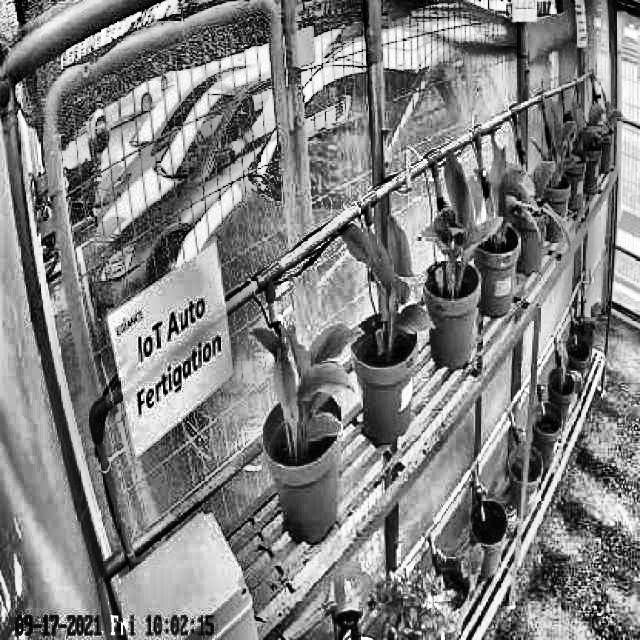plants: (254, 326, 363, 444), (340, 216, 434, 338), (421, 151, 487, 291), (478, 139, 526, 250)
